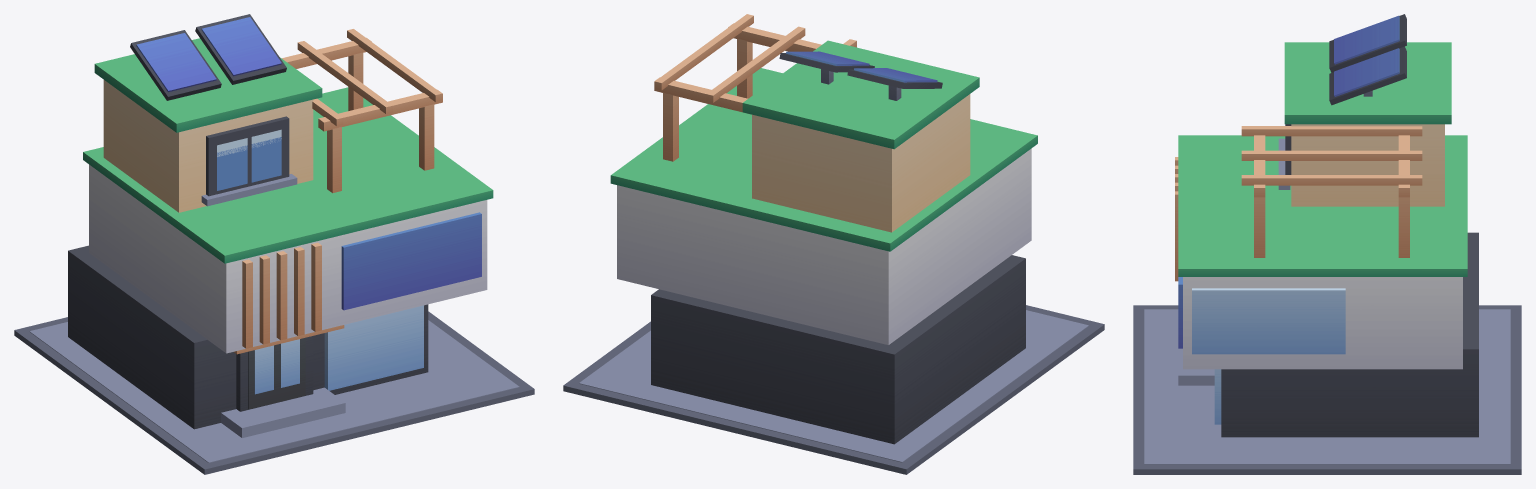
The model's file is res_modern_cube_1x1.glb.
3 views of the same model, side by side, from view 1: azimuth 30°, elevation 25°; view 2: azimuth 150°, elevation 25°; view 3: azimuth 270°, elevation 25° (orthographic). The views are drawn at different scales.
Visible parts, largest first — view 1: res_modern_cube_1x1; view 2: res_modern_cube_1x1; view 3: res_modern_cube_1x1.
Boxes of the visible parts, bbox=[...] form: res_modern_cube_1x1: bbox=[14, 14, 534, 474]; res_modern_cube_1x1: bbox=[563, 14, 1104, 474]; res_modern_cube_1x1: bbox=[1133, 14, 1521, 474].
Size of the model in its own units: 1.72 by 1.59 by 1.72.
1 material, 1 textured.
